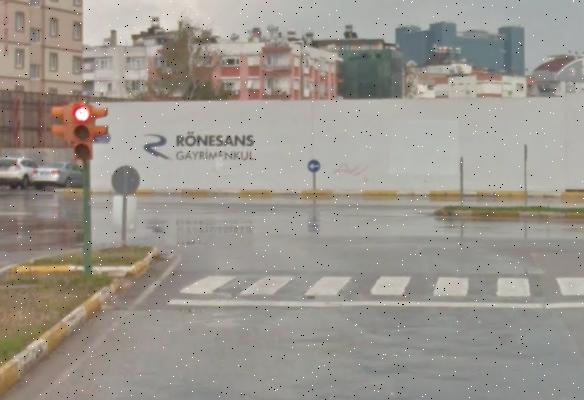redlight: (72, 101, 95, 164)
